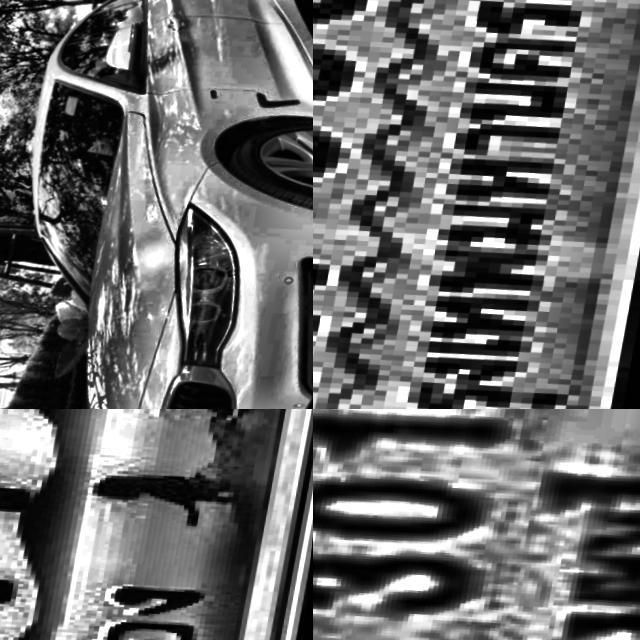license-plate: (313, 0, 640, 409), (313, 409, 640, 640), (0, 409, 313, 640)
